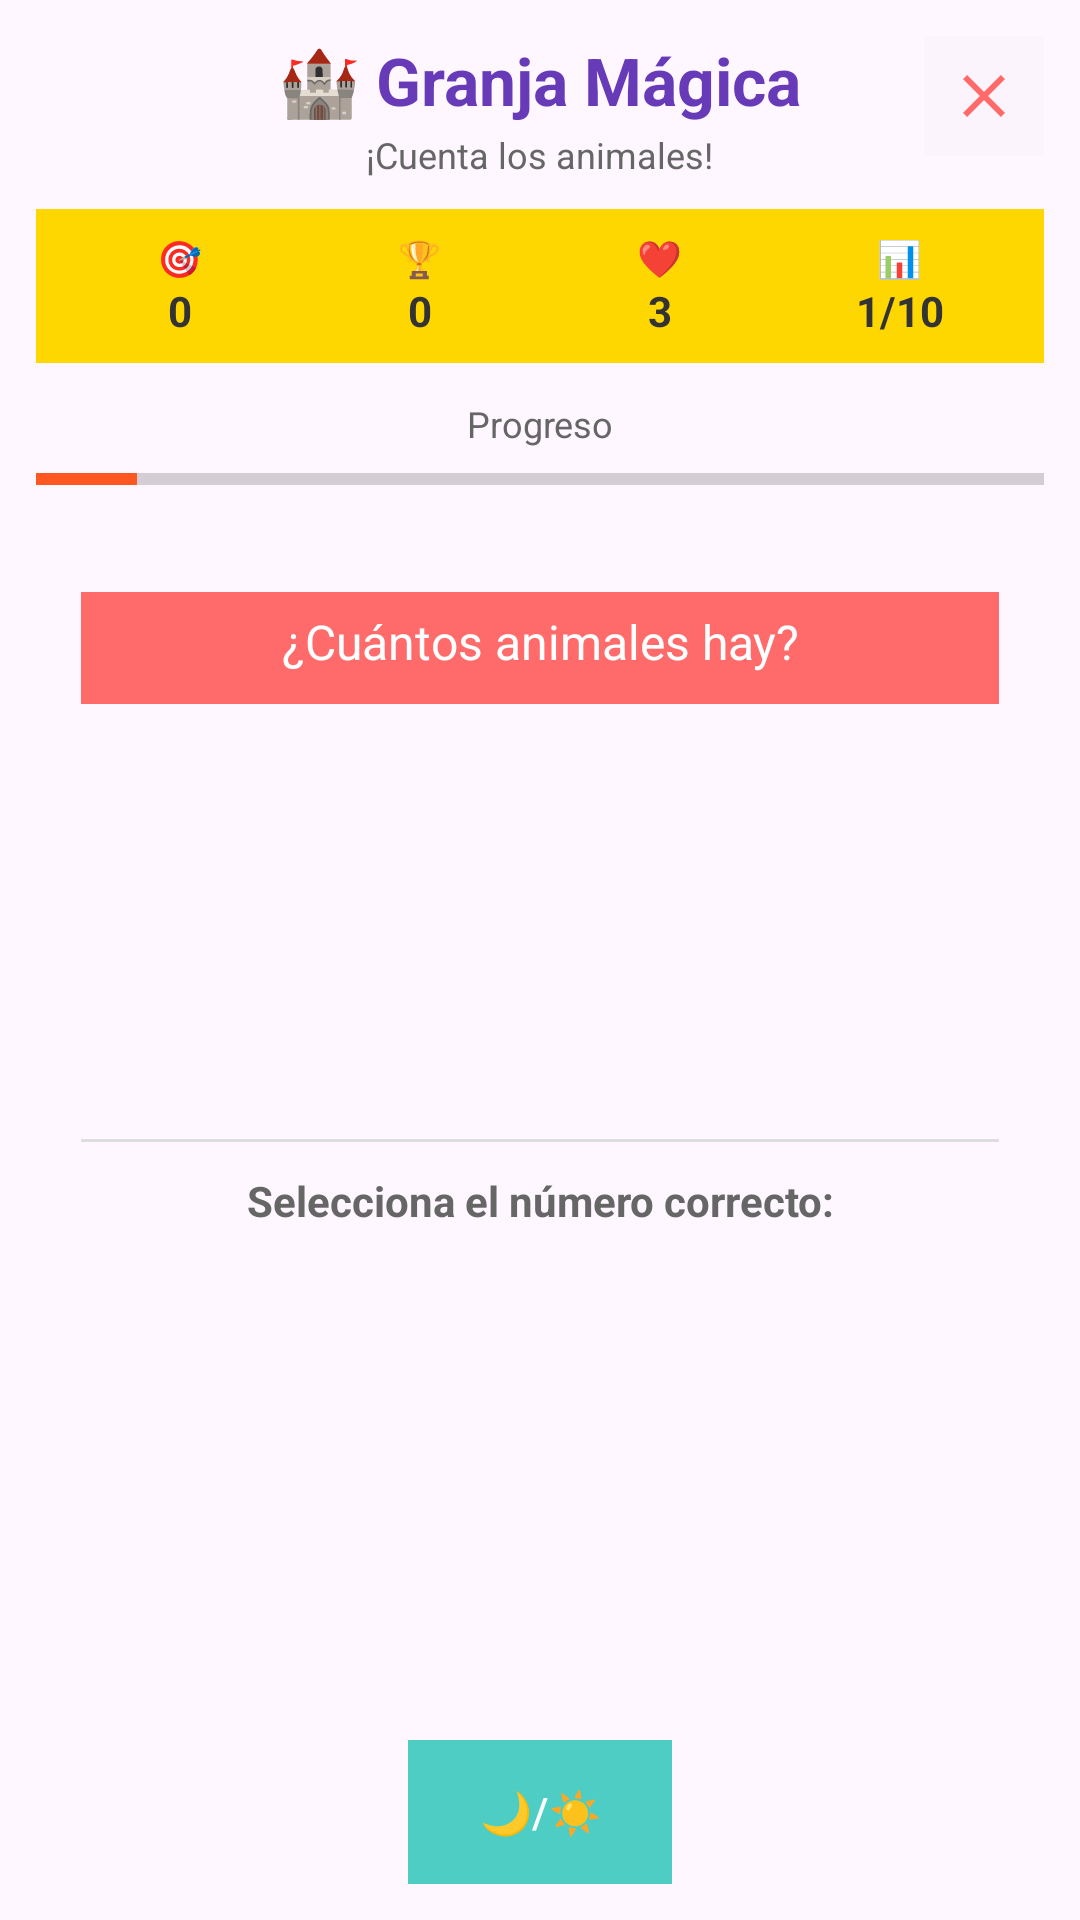

Icon click points for this 1080x1920 phone screenshot, format (x,y):
Cerrar juego: (984,96)
